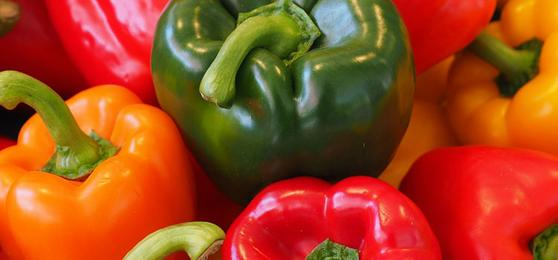pepper: (229, 174, 437, 260)
